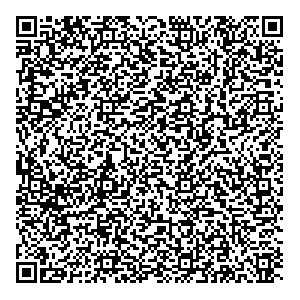QR_CODE: (7, 7, 291, 289)
